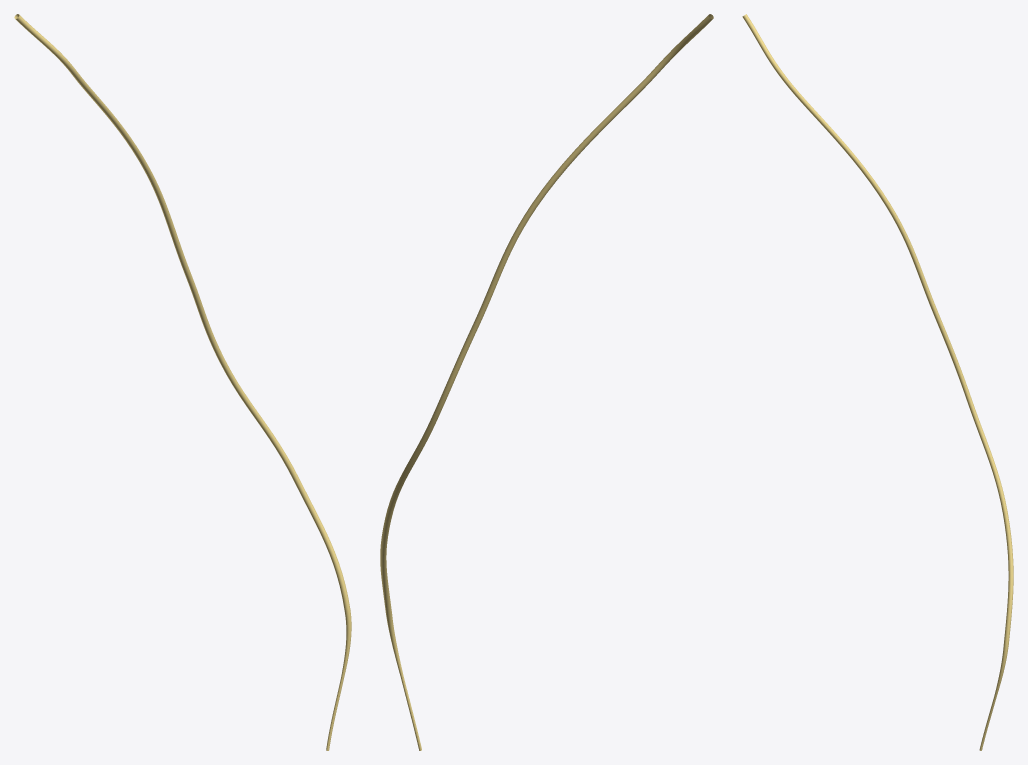
The picture shows the model from 3 angles, left to right: view 1: azimuth 30°, elevation 25°; view 2: azimuth 150°, elevation 25°; view 3: azimuth 330°, elevation 25°; orthographic projection. The views are drawn at different scales.
Parts seen in each view (by area): view 1: ZA_2bf7afbb018f9886; view 2: ZA_2bf7afbb018f9886; view 3: ZA_2bf7afbb018f9886.
Part boxes in pixels (x1,y1,x2,y2): ZA_2bf7afbb018f9886: (14, 14, 351, 750); ZA_2bf7afbb018f9886: (380, 14, 713, 750); ZA_2bf7afbb018f9886: (742, 14, 1013, 750).
Bounding box in the file's own units: 0.1234 × 0.2881 × 0.0318.
